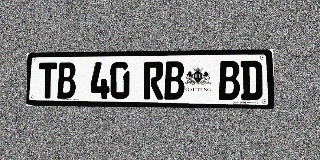0: (110, 62, 129, 99)
4: (90, 62, 110, 99)
B: (218, 61, 240, 100), (164, 61, 184, 100), (57, 62, 76, 99)
D: (240, 61, 262, 100)
R: (143, 61, 163, 99)
T: (39, 62, 57, 99)
